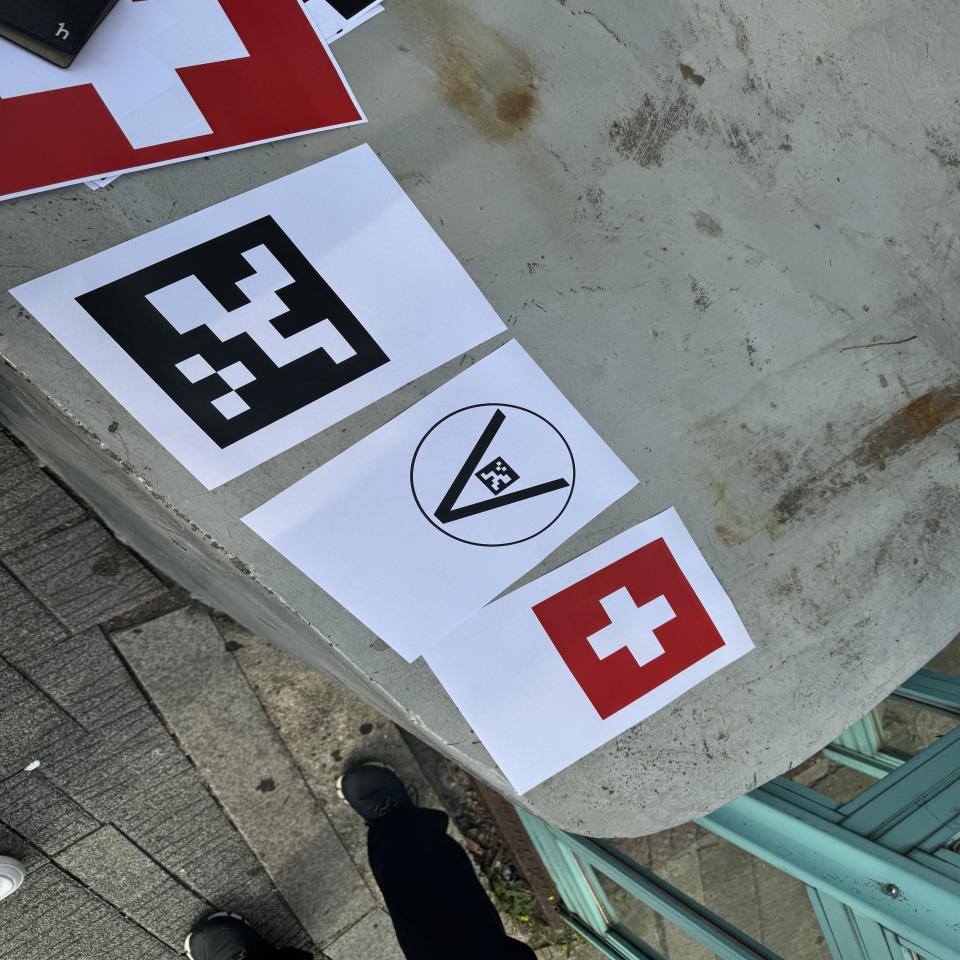ArUro mark: (75, 214, 389, 449)
rescue point: (534, 539, 726, 718)
vertiport: (404, 399, 580, 552)
